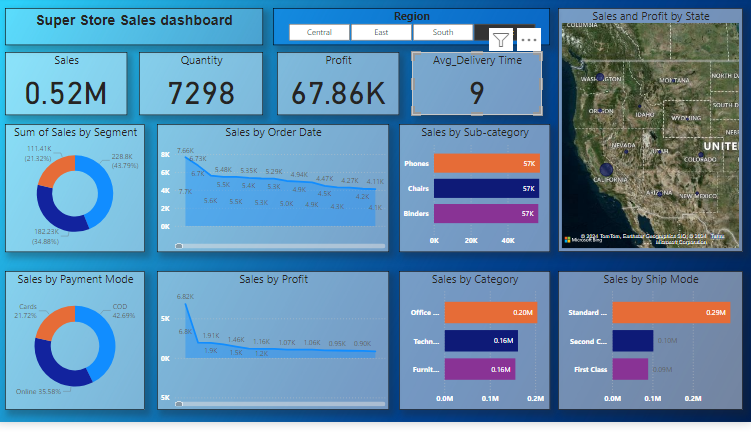

The page's visual inventory and layout, read from the dashboard file:
{"tool":"powerbi","page":{"name":"Page 1","canvas":[1280,720],"ordinal":0},"visuals":[{"type":"clusteredBarChart","title":"Sales by Category","fields":{"Category":["SuperStore_Sales_Dataset(1).Category"],"Y":["Sum(SuperStore_Sales_Dataset(1).Sales)"]},"box":[682.3,463.9,255.7,235.3],"z":0},{"type":"clusteredBarChart","title":"Sales by Sub-category","fields":{"Category":["SuperStore_Sales_Dataset(1).Sub-Category"],"Y":["Sum(SuperStore_Sales_Dataset(1).Sales)"]},"box":[682.3,215,255.7,216.7],"z":1000},{"type":"clusteredBarChart","title":"Sales by Ship Mode","fields":{"Category":["SuperStore_Sales_Dataset(1).Ship Mode"],"Y":["Sum(SuperStore_Sales_Dataset(1).Sales)"]},"box":[951.5,463.9,313.2,235.3],"z":2000},{"type":"stackedAreaChart","title":"Sales by Order Date","fields":{"Category":["SuperStore_Sales_Dataset(1).Order Date"],"Y":["Sum(SuperStore_Sales_Dataset(1).Sales)"]},"box":[272.6,215,392.8,216.7],"z":3000},{"type":"stackedAreaChart","title":"Sales by Profit","fields":{"Category":["SuperStore_Sales_Dataset(1).Order Date"],"Y":["Sum(SuperStore_Sales_Dataset(1).Profit)"]},"box":[272.6,463.9,392.8,235.3],"z":4000},{"type":"map","title":"Sales and Profit by State","fields":{"Category":["SuperStore_Sales_Dataset(1).State"],"Size":["Sum(SuperStore_Sales_Dataset(1).Sales)"]},"box":[951.5,18.6,313.2,413.1],"z":5000},{"type":"donutChart","fields":{"Category":["SuperStore_Sales_Dataset(1).Segment"],"Y":["Sum(SuperStore_Sales_Dataset(1).Sales)"]},"box":[15.2,215,237,216.7],"z":6000},{"type":"donutChart","title":" Sales by Payment Mode","fields":{"Y":["Sum(SuperStore_Sales_Dataset(1).Sales)"],"Category":["SuperStore_Sales_Dataset(1).Payment Mode"]},"box":[15.2,463.9,237,235.3],"z":7000},{"type":"slicer","title":"Region","fields":{"Values":["SuperStore_Sales_Dataset(1).Region"]},"box":[469,18.6,469,62.6],"z":8000},{"type":"textbox","box":[15.2,18.6,436.8,62.6],"z":9000},{"type":"card","title":"Sales","fields":{"Values":["Sum(SuperStore_Sales_Dataset(1).Sales)"]},"box":[15.2,93.1,206.6,106.7],"z":10000},{"type":"card","title":"Quantity","fields":{"Values":["Sum(SuperStore_Sales_Dataset(1).Quantity)"]},"box":[242.1,93.1,209.9,106.7],"z":11000},{"type":"card","title":"Profit","fields":{"Values":["Sum(SuperStore_Sales_Dataset(1).Profit)"]},"box":[475.8,93.1,206.6,106.7],"z":12000},{"type":"card","title":"Avg_Delivery Time","fields":{"Values":["Avg(SuperStore_Sales_Dataset(1).AvgDelivery)"]},"box":[704.3,93.1,220.1,106.7],"z":13000}]}

Visuals, with their boxes in screenshot pixels (x1, y1, x2, y2), scaled from the page's 1280x720 canvas onto the 751x432 screenshot:
"Sales by Category" clusteredBarChart: [400, 278, 550, 420]
"Sales by Sub-category" clusteredBarChart: [400, 129, 550, 259]
"Sales by Ship Mode" clusteredBarChart: [558, 278, 742, 420]
"Sales by Order Date" stackedAreaChart: [160, 129, 390, 259]
"Sales by Profit" stackedAreaChart: [160, 278, 390, 420]
"Sales and Profit by State" map: [558, 11, 742, 259]
donutChart - SuperStore_Sales_Dataset(1).Segment x Sum(SuperStore_Sales_Dataset(1).Sales): [9, 129, 148, 259]
" Sales by Payment Mode" donutChart: [9, 278, 148, 420]
"Region" slicer: [275, 11, 550, 49]
textbox: [9, 11, 265, 49]
"Sales" card: [9, 56, 130, 120]
"Quantity" card: [142, 56, 265, 120]
"Profit" card: [279, 56, 400, 120]
"Avg_Delivery Time" card: [413, 56, 542, 120]
